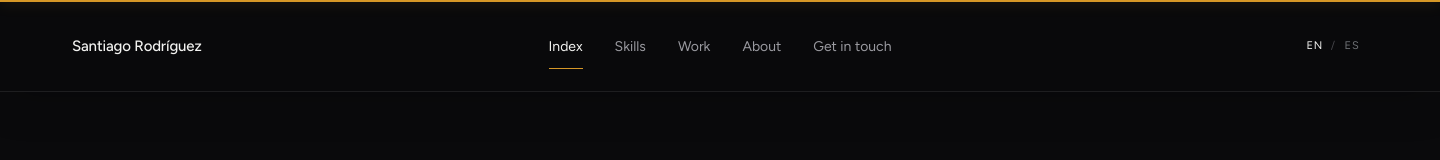
Test case: SiteHeader › switches language accessibly and persists the selection
Click the button with aria-label "Switch to Spanish": (1352, 46) [1336, 24, 1368, 68]
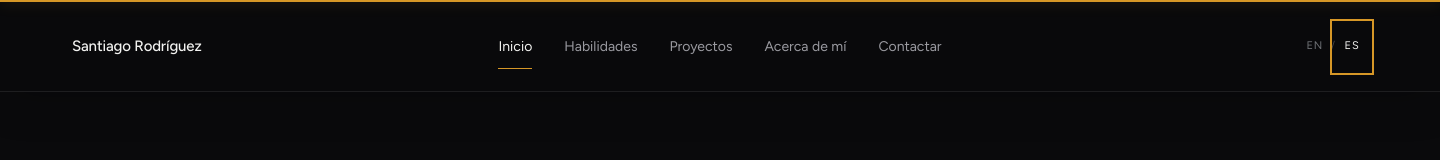
Expected: the navigation bar named "Navegación principal" is shown, [498, 36, 942, 57]
